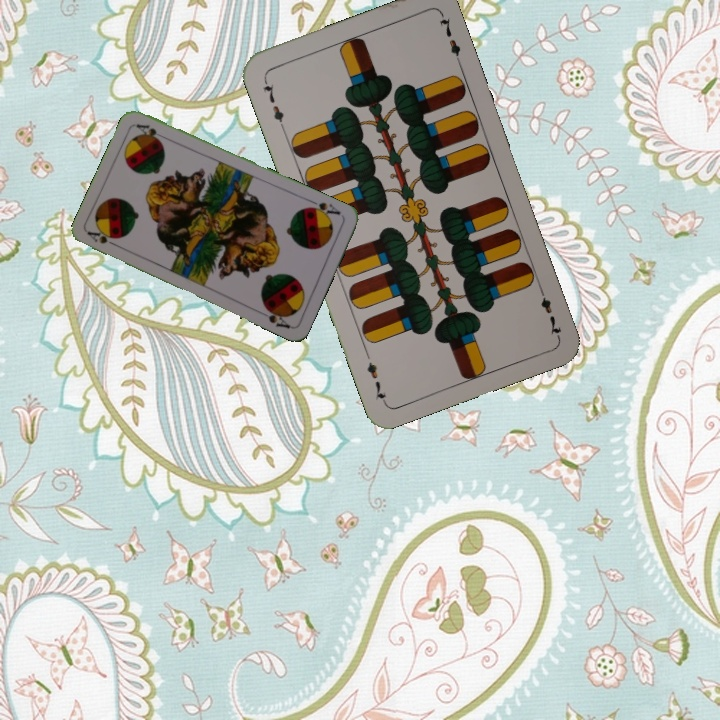E7: (535, 283, 564, 340), (259, 75, 287, 132)
SA: (303, 196, 343, 221), (84, 227, 123, 250)
